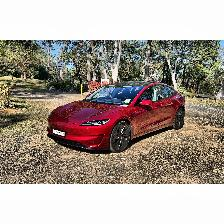EV: (48, 81, 187, 153)
